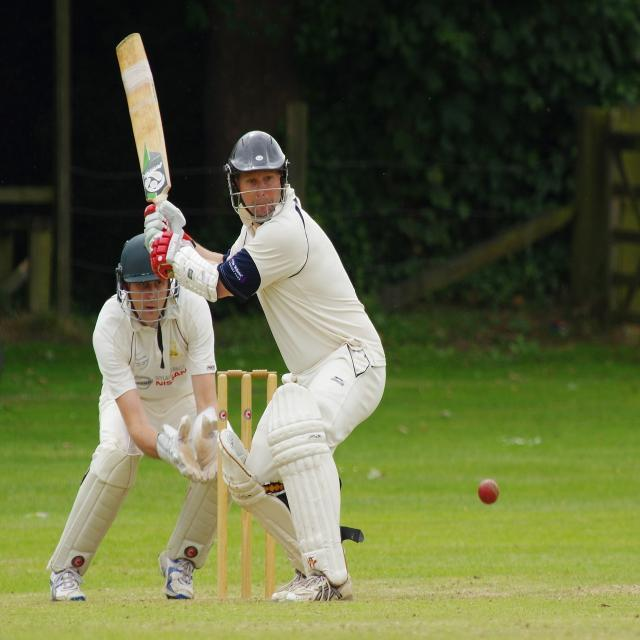stumps: (196, 351, 283, 448), (216, 477, 230, 599), (237, 510, 253, 599), (264, 534, 276, 598)
